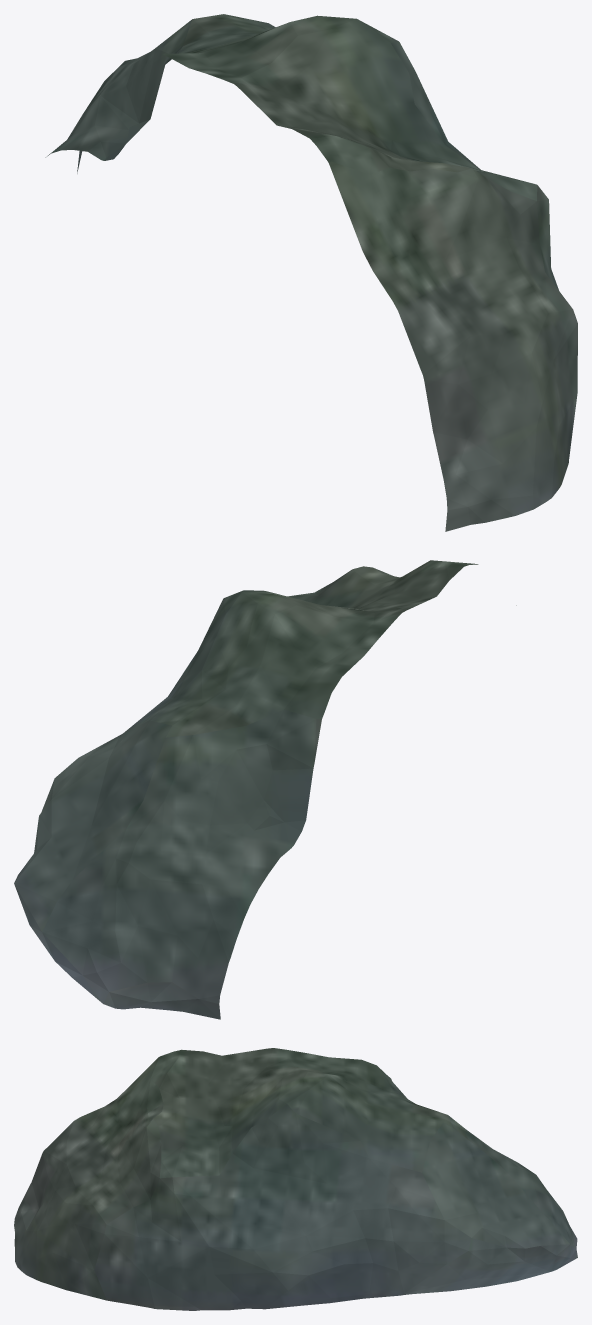
File: Tile_+012_+009_L21_0000035100.glb
3 views of the same model, one above another, from view 1: azimuth 30°, elevation 25°; view 2: azimuth 150°, elevation 25°; view 3: azimuth 270°, elevation 25° (orthographic). The views are drawn at different scales.
Visible parts, largest first — view 1: rtc; view 2: rtc; view 3: rtc.
Part boxes in pixels (x1=…): rtc: x1=45, y1=14, x2=577, y2=531; rtc: x1=14, y1=560, x2=516, y2=1019; rtc: x1=14, y1=1048, x2=577, y2=1310.
Bounding box in the file's own units: 4.45 × 4.77 × 12.43.
1 material, 1 textured.
